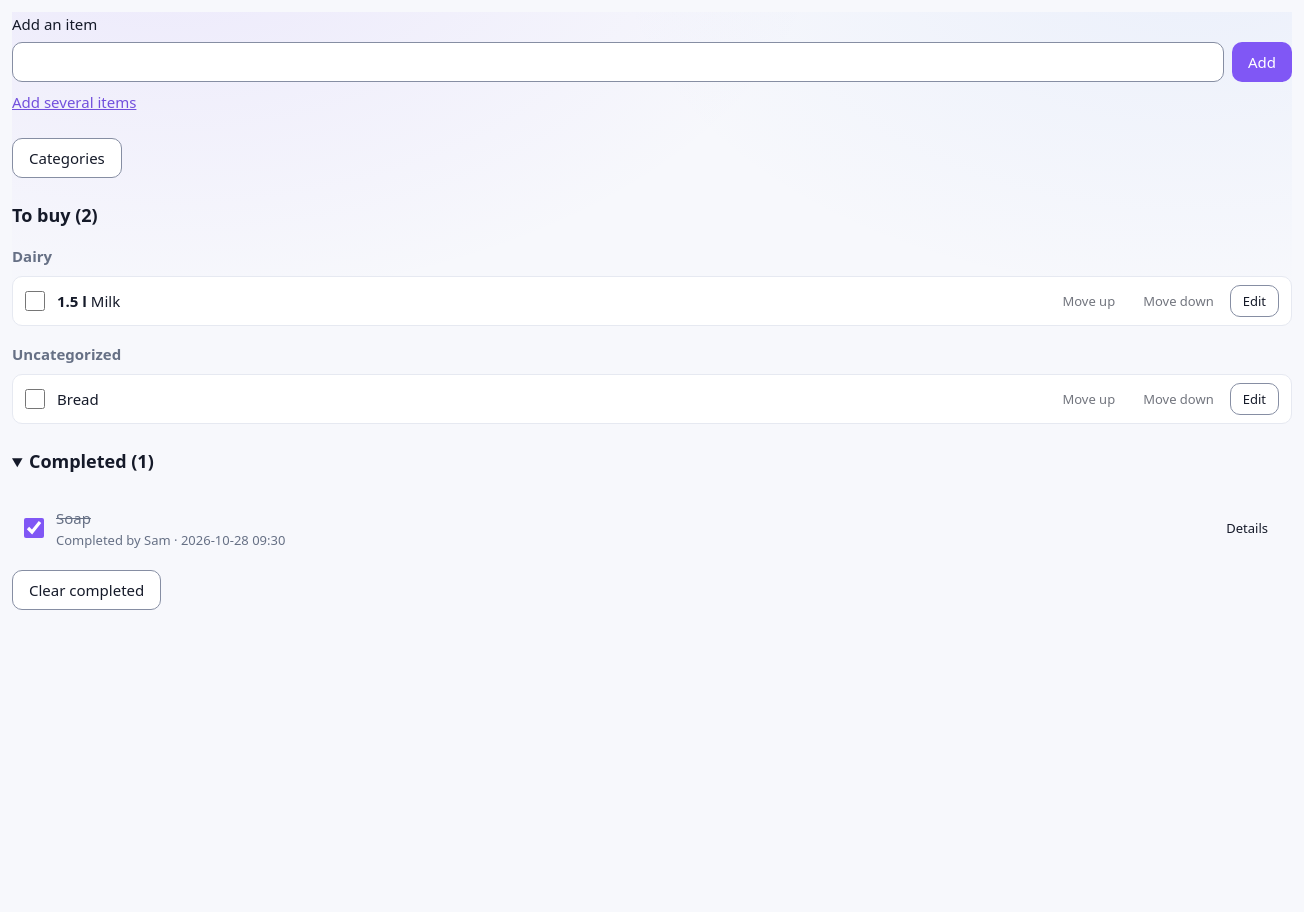
Test case: a shopping list › takes a check-off back when it is refused
Click the checkbox named "Check off Bread".
click(35, 399)  # box [25,389,45,409]
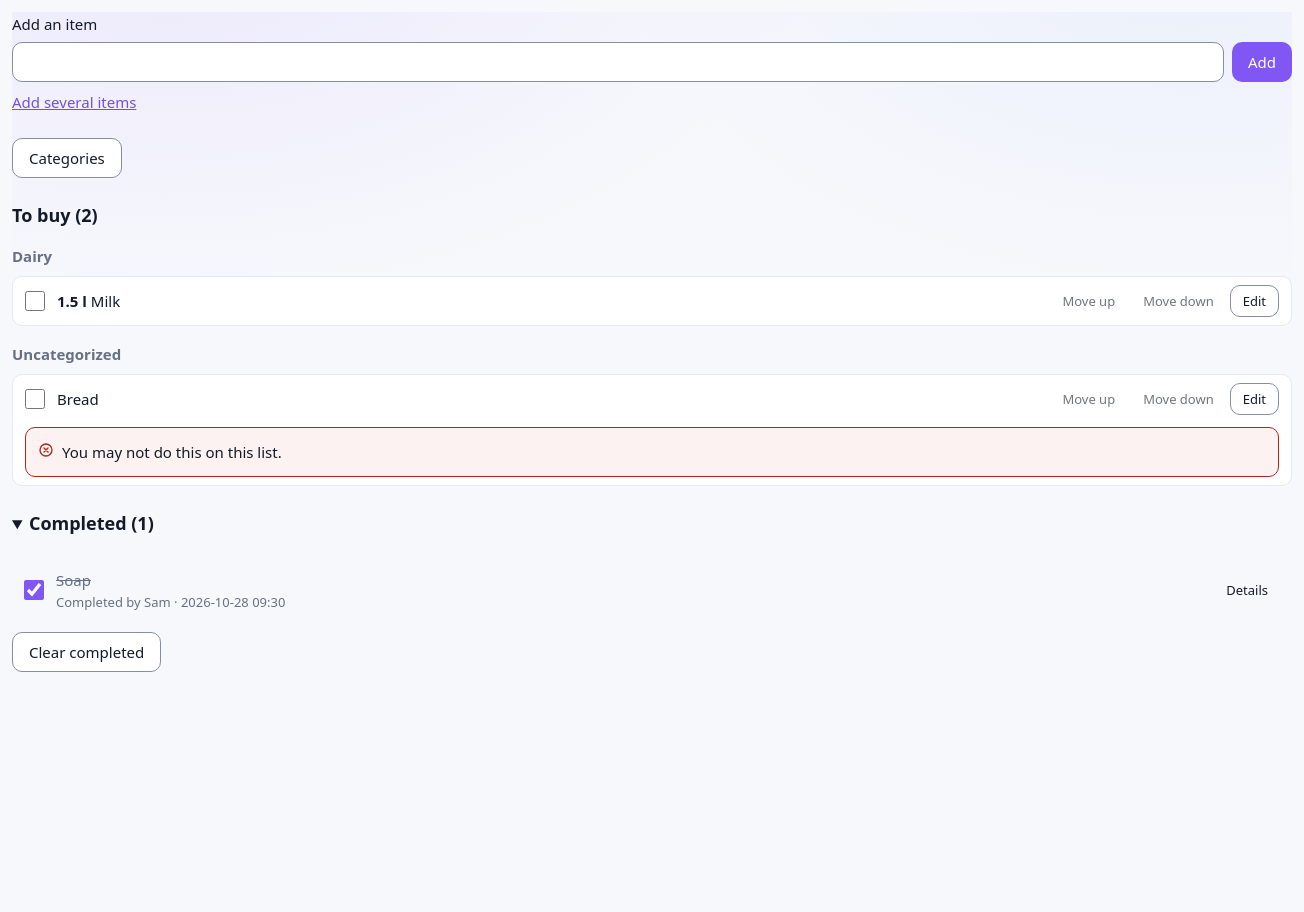
Expected: the text "Bread" is shown, [57,389,99,409]
Expected: the text "You may not do this on this list." is shown, [62,440,282,464]
